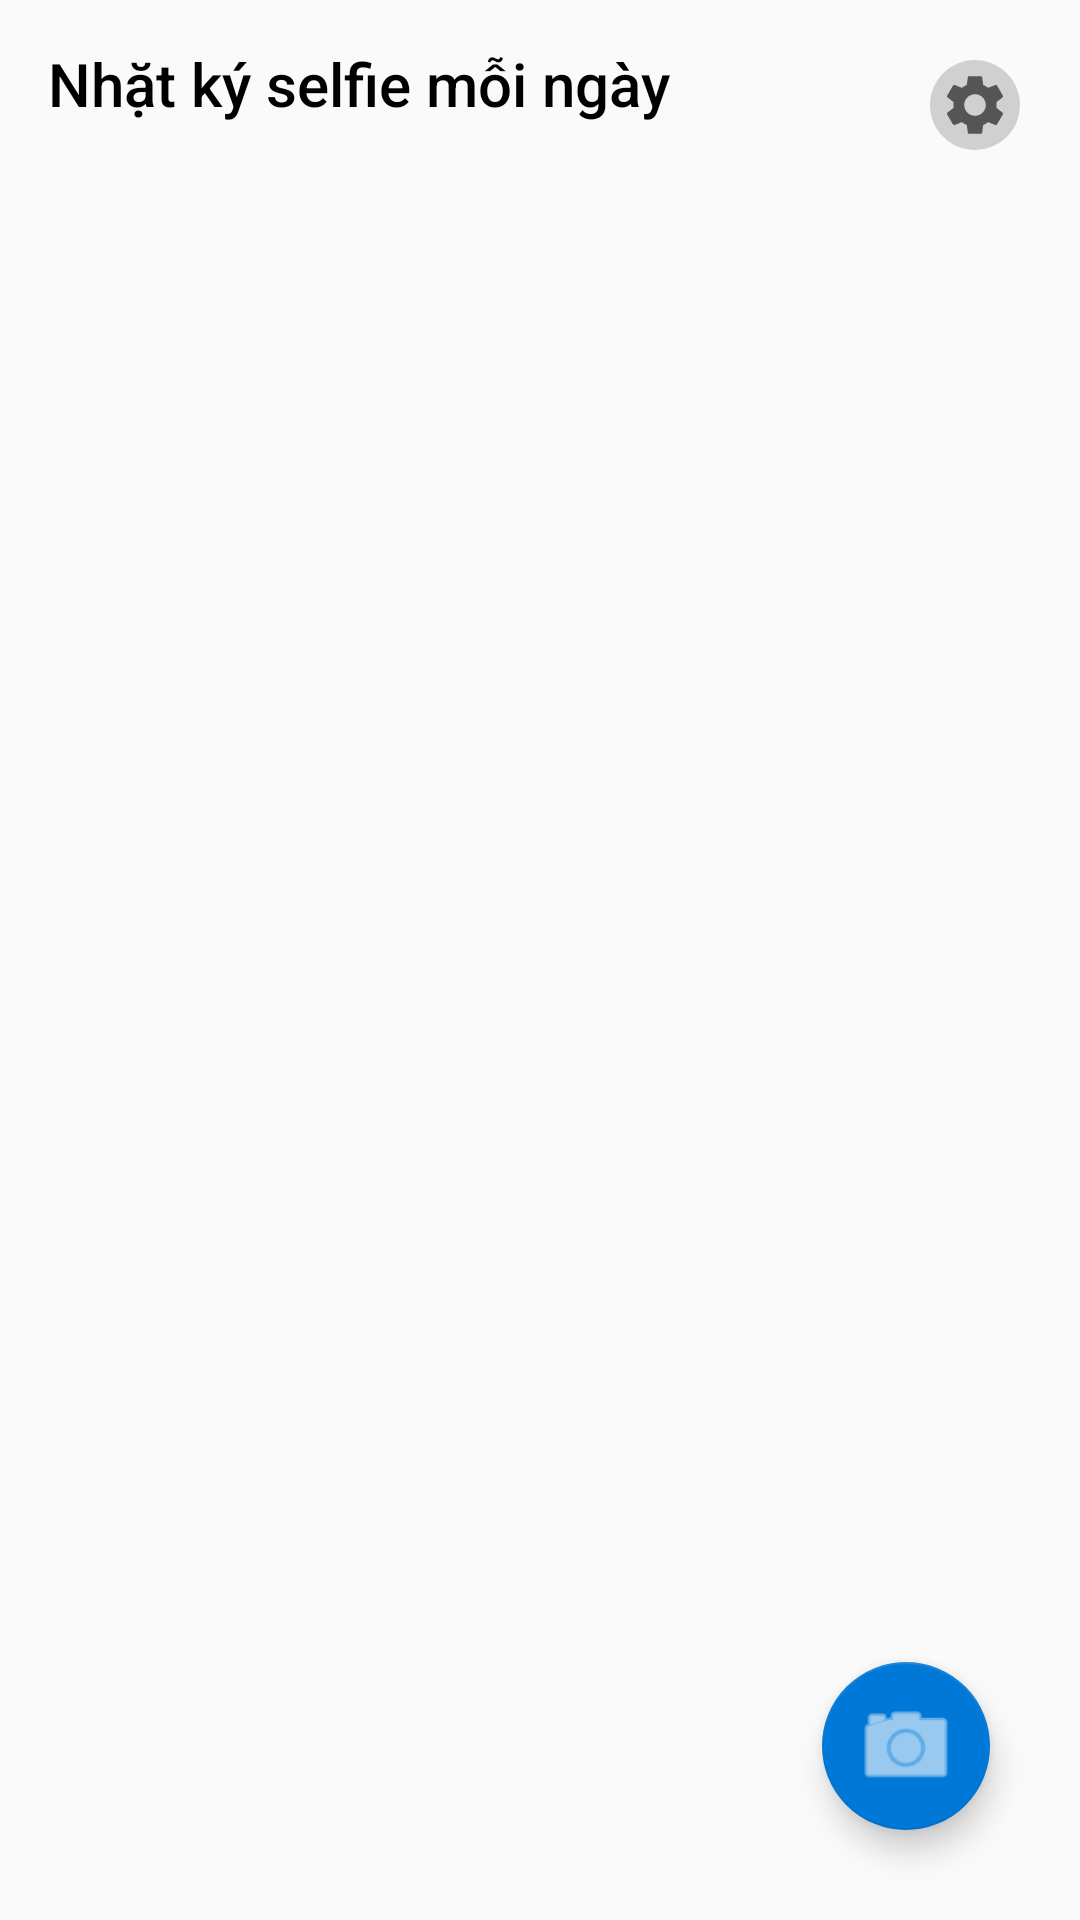

Icons on this 1080 × 1920 Android screen, each with its box as bbox=(x1, y1, x2, y2):
camera: bbox=(822, 1662, 990, 1830)
settings: bbox=(930, 60, 1020, 150)
